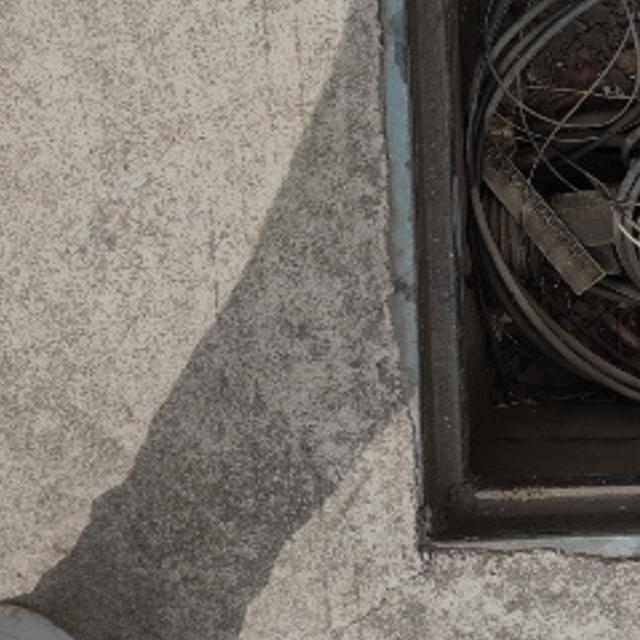lose: (372, 0, 640, 559)
